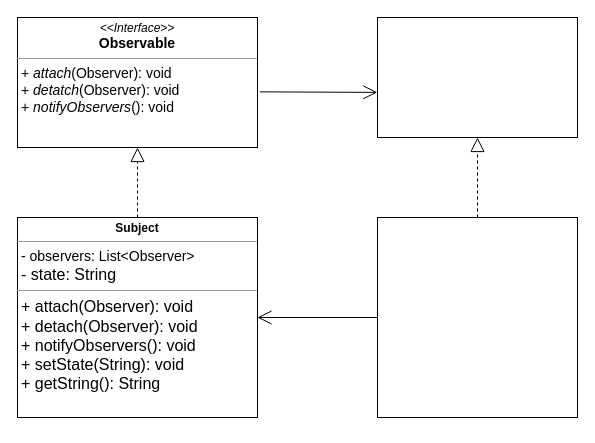
The diagram is 595 pixels wide and 443 high, and some of its shapes have lost their labels. The shapes that lost their labels are listed below. From the top down, each one's centre as x and y in pixels, then its label:
At [477,77]: "<<Interface>> IObserve + update (): void".
At [477,317]: "Observer - name: String - s: Subject + update (): void".
